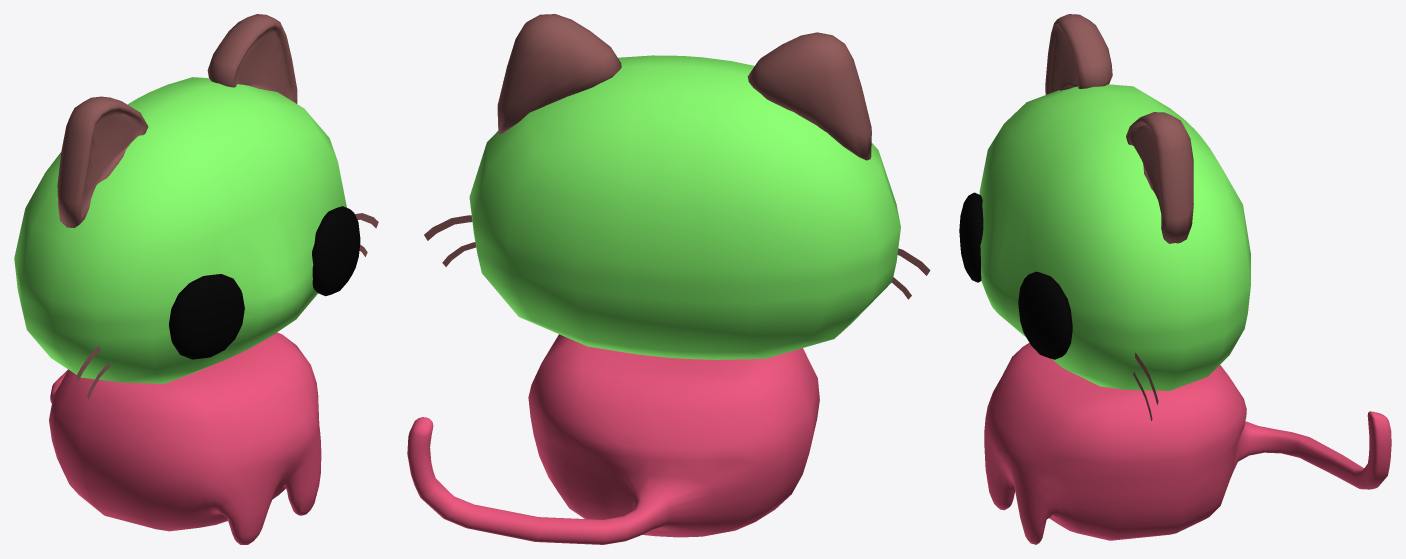
File: ToyObject_085.fbx
3 views of the same model, side by side, from view 1: azimuth 30°, elevation 25°; view 2: azimuth 150°, elevation 25°; view 3: azimuth 270°, elevation 25° (orthographic). The views are drawn at different scales.
Parts seen in each view (by area): view 1: 1.019; view 2: 1.019; view 3: 1.019.
Part boxes in pixels (x1=…): 1.019: x1=14, y1=14, x2=378, y2=544; 1.019: x1=407, y1=14, x2=930, y2=544; 1.019: x1=959, y1=14, x2=1391, y2=544.
Size of the model in its own units: 0.1699 by 0.1861 by 0.1656.
